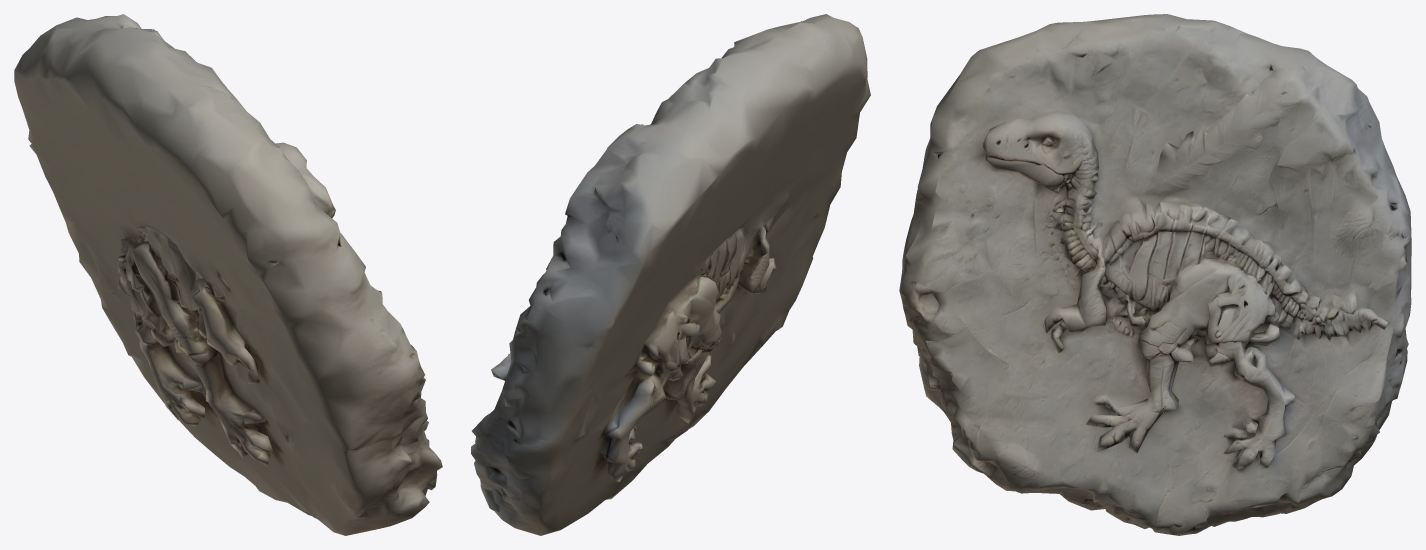
File: feather_fossil.glb
The picture shows the model from 3 angles, left to right: view 1: azimuth 30°, elevation 25°; view 2: azimuth 150°, elevation 25°; view 3: azimuth 270°, elevation 25°; orthographic projection. The views are drawn at different scales.
Visible parts, largest first — view 1: tripo_node_fe9f2ef2-aef0-4379-89e6-3c44fce10b10; view 2: tripo_node_fe9f2ef2-aef0-4379-89e6-3c44fce10b10; view 3: tripo_node_fe9f2ef2-aef0-4379-89e6-3c44fce10b10.
Boxes of the visible parts, box(x1,y1,x2,y2) form: tripo_node_fe9f2ef2-aef0-4379-89e6-3c44fce10b10: box(14, 14, 442, 535); tripo_node_fe9f2ef2-aef0-4379-89e6-3c44fce10b10: box(471, 14, 870, 535); tripo_node_fe9f2ef2-aef0-4379-89e6-3c44fce10b10: box(899, 14, 1411, 535).
Bounding box in the file's own units: 0.5099 × 0.9436 × 1.
Materials: 1 (1 with a texture image).
